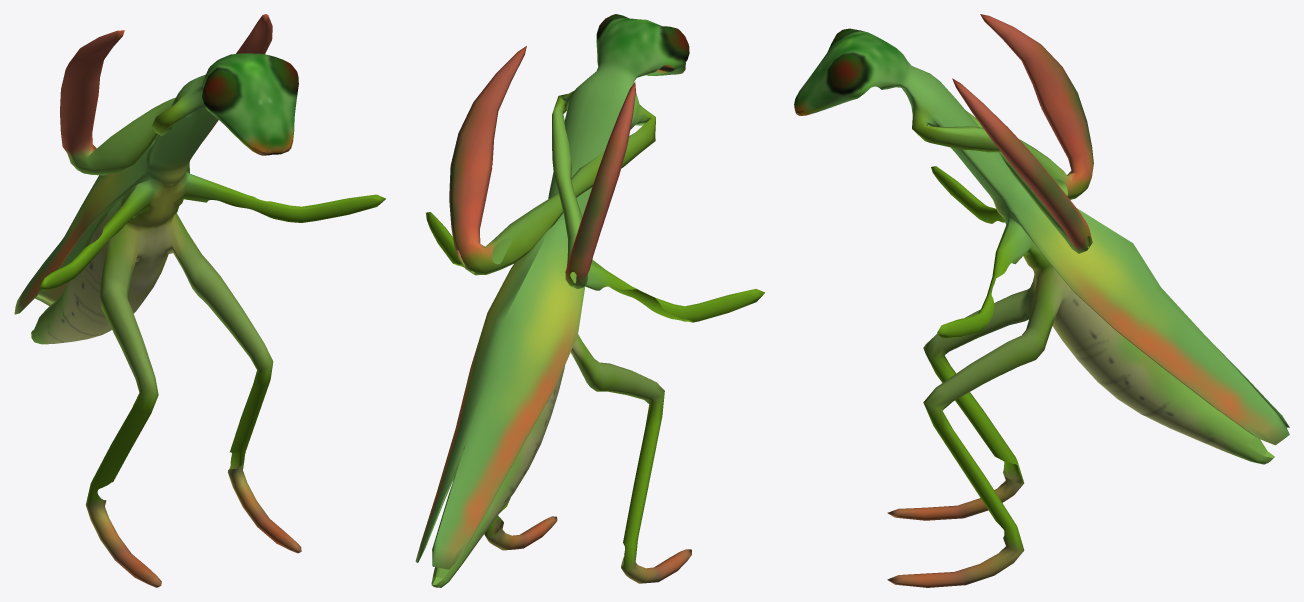
The model's file is mantis_withskeleton.fbx.
3 views of the same model, side by side, from view 1: azimuth 30°, elevation 25°; view 2: azimuth 150°, elevation 25°; view 3: azimuth 270°, elevation 25° (orthographic). The views are drawn at different scales.
Parts seen in each view (by area): view 1: pCylinder1; view 2: pCylinder1; view 3: pCylinder1.
Part boxes in pixels (left/top/right/bottom): pCylinder1: left=14, top=14, right=385, bottom=587; pCylinder1: left=415, top=14, right=764, bottom=587; pCylinder1: left=794, top=14, right=1289, bottom=587.
Bounding box in the file's own units: 58.04 × 83.78 × 73.23.
